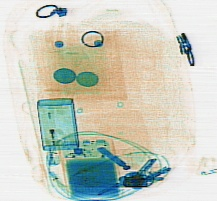lighter: (40, 104, 59, 166)
